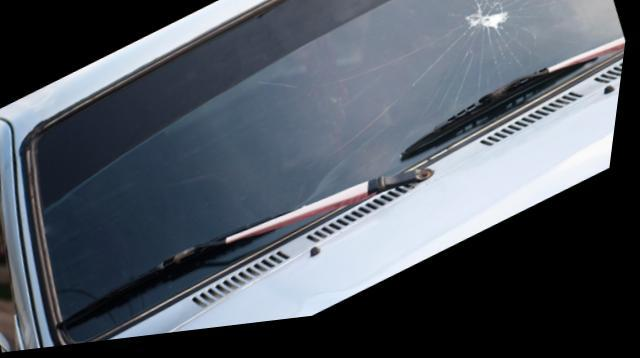glass shatter: (30, 0, 628, 347)
